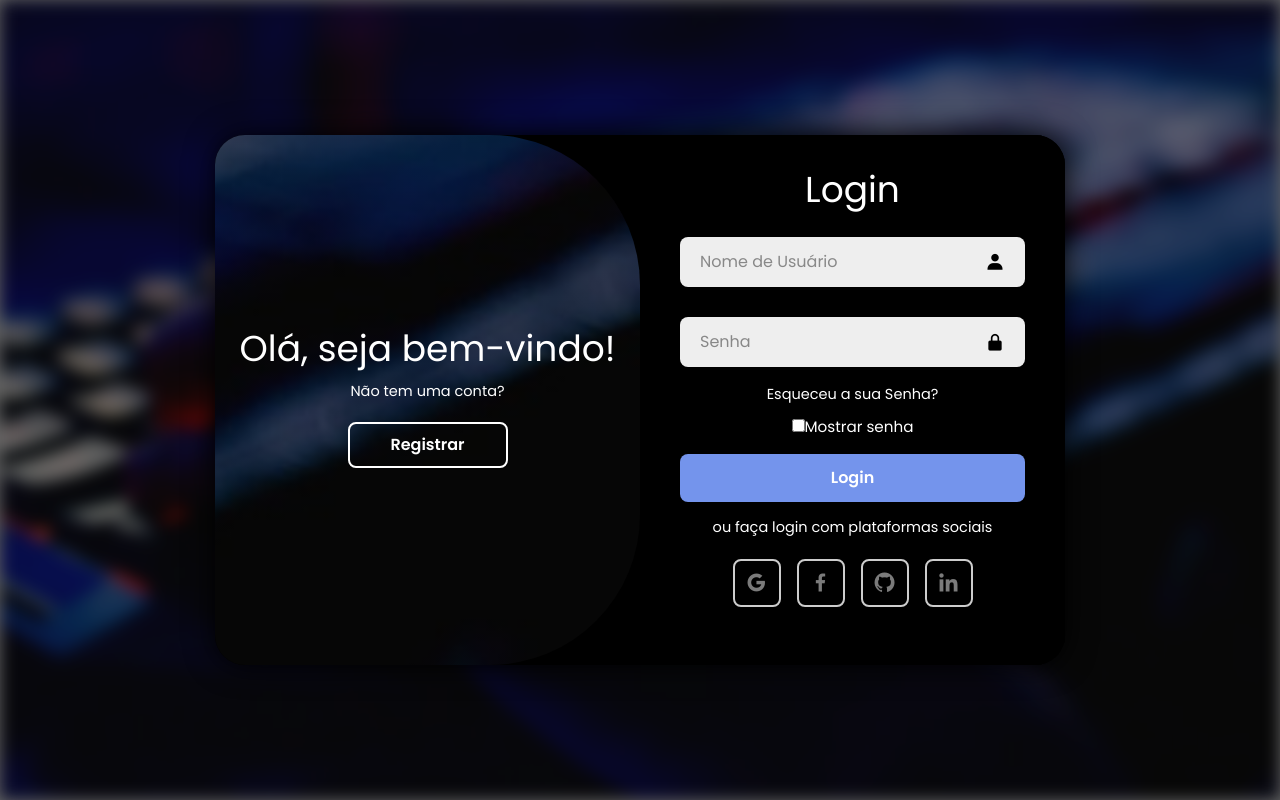
Tela de Login e Registro › Deve cadastrar um novo usuário
Click the button "Registrar" at (428, 445), box [348,422,508,468]
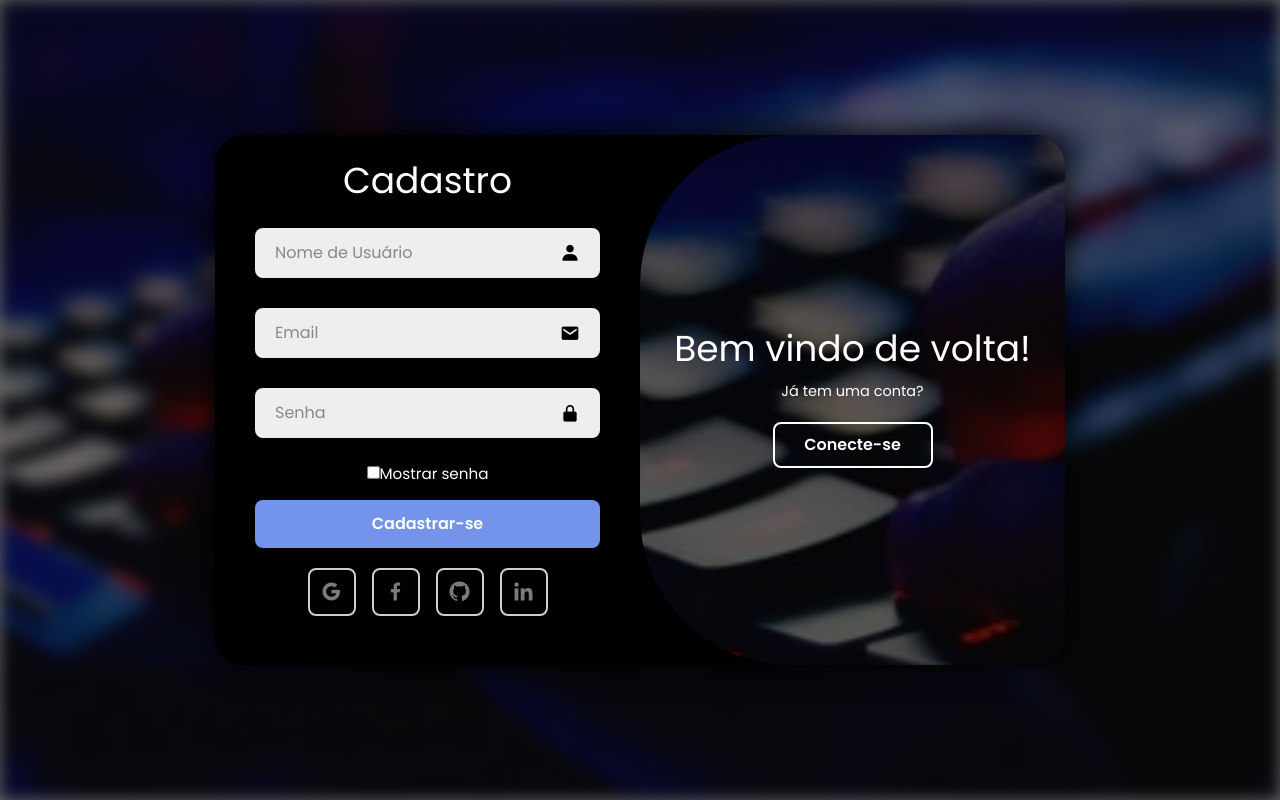
Type "Novo Usuario" into the field with test id "register-username" at (428, 253), box [255,228,600,278]
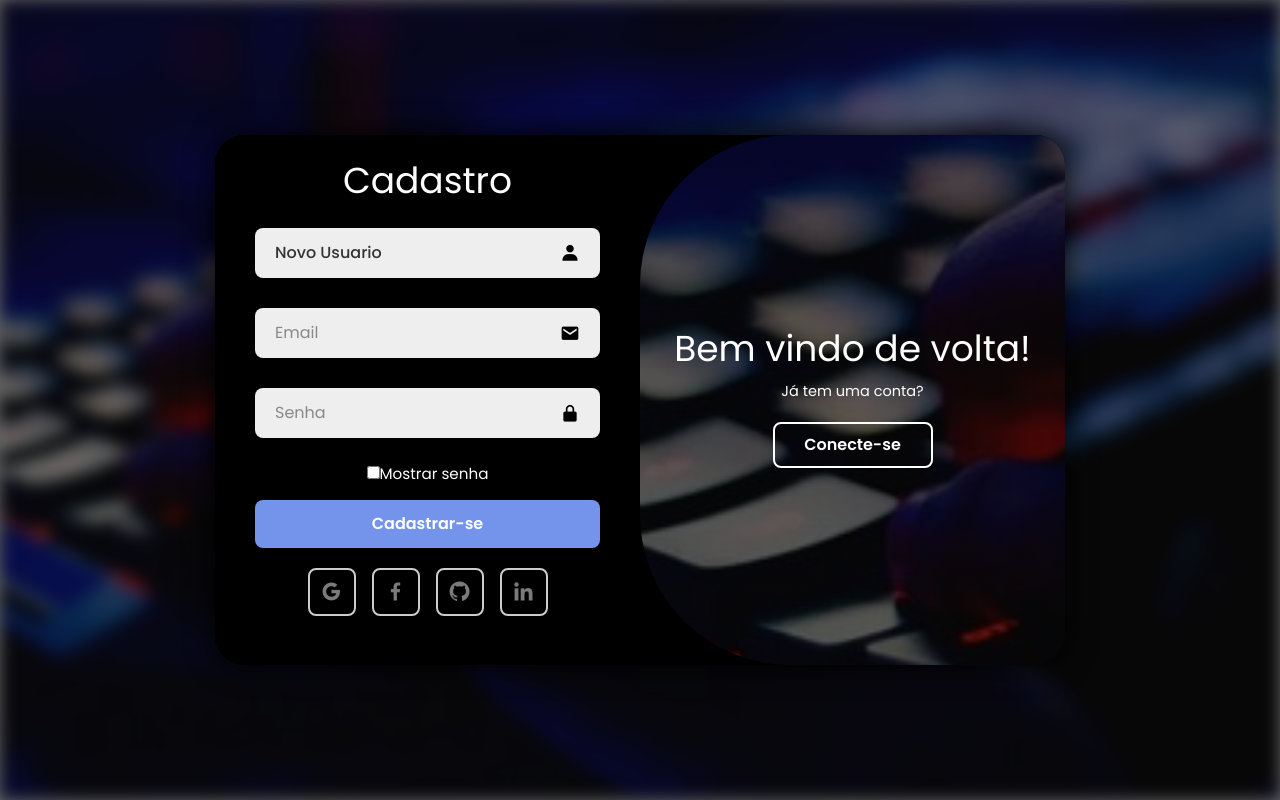
Type "novo@teste.com" into the field with test id "register-email" at (428, 333), box [255,308,600,358]
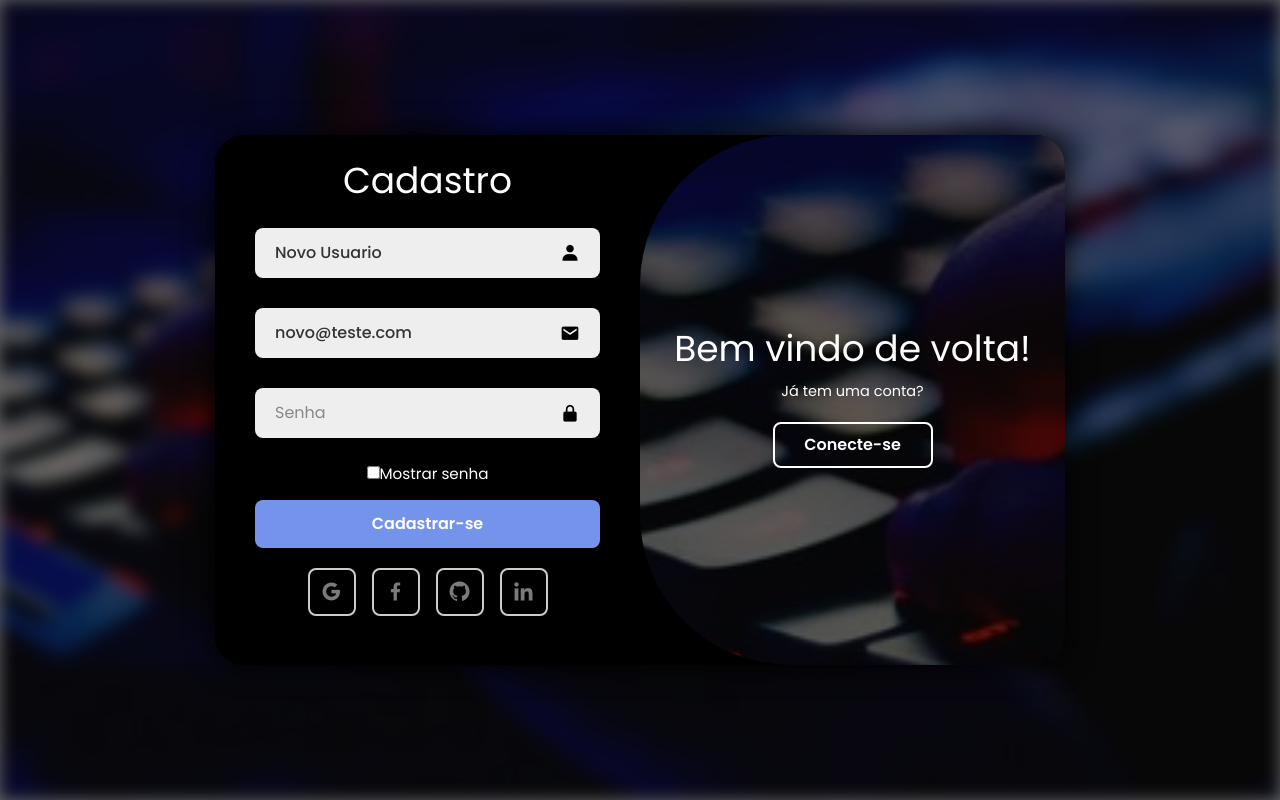
Type "123456" into the password field with test id "register-password" at (428, 413), box [255,388,600,438]
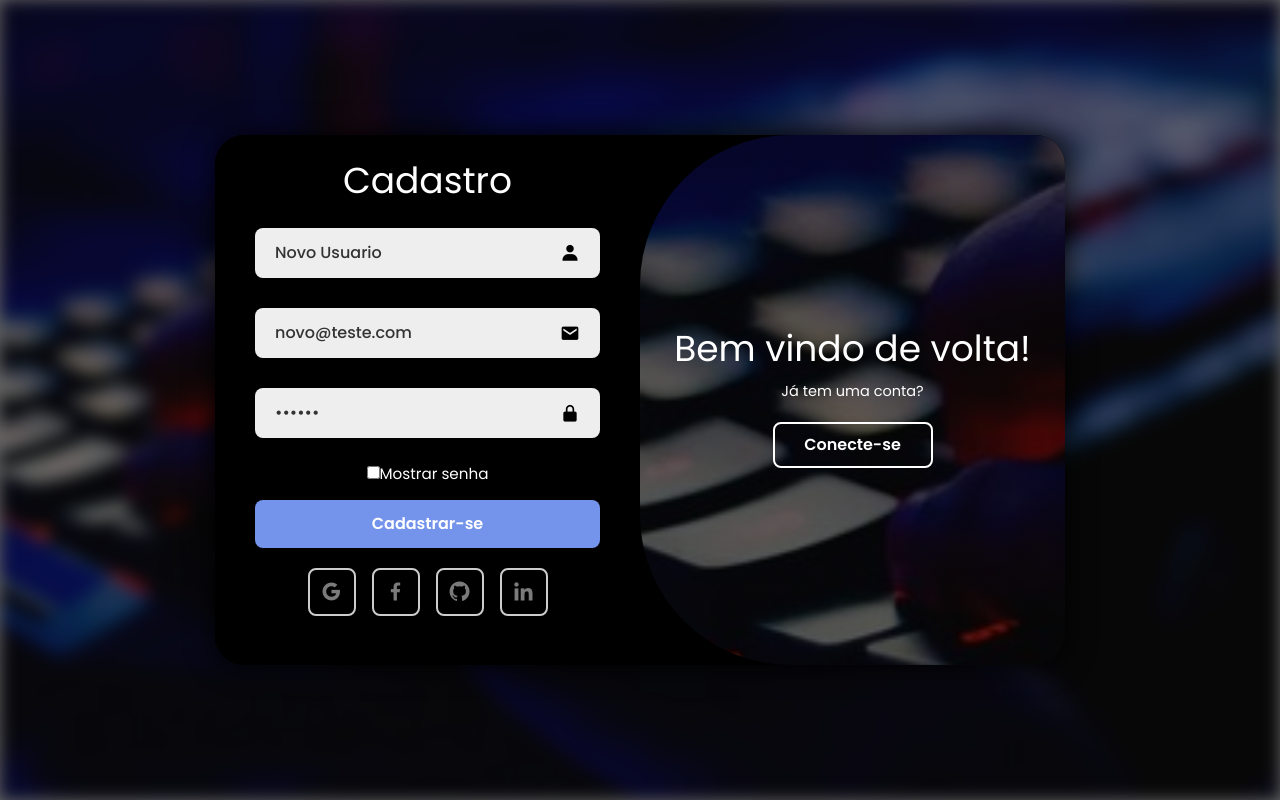
Click the button "Cadastrar-se" at (428, 524), box [255,500,600,548]
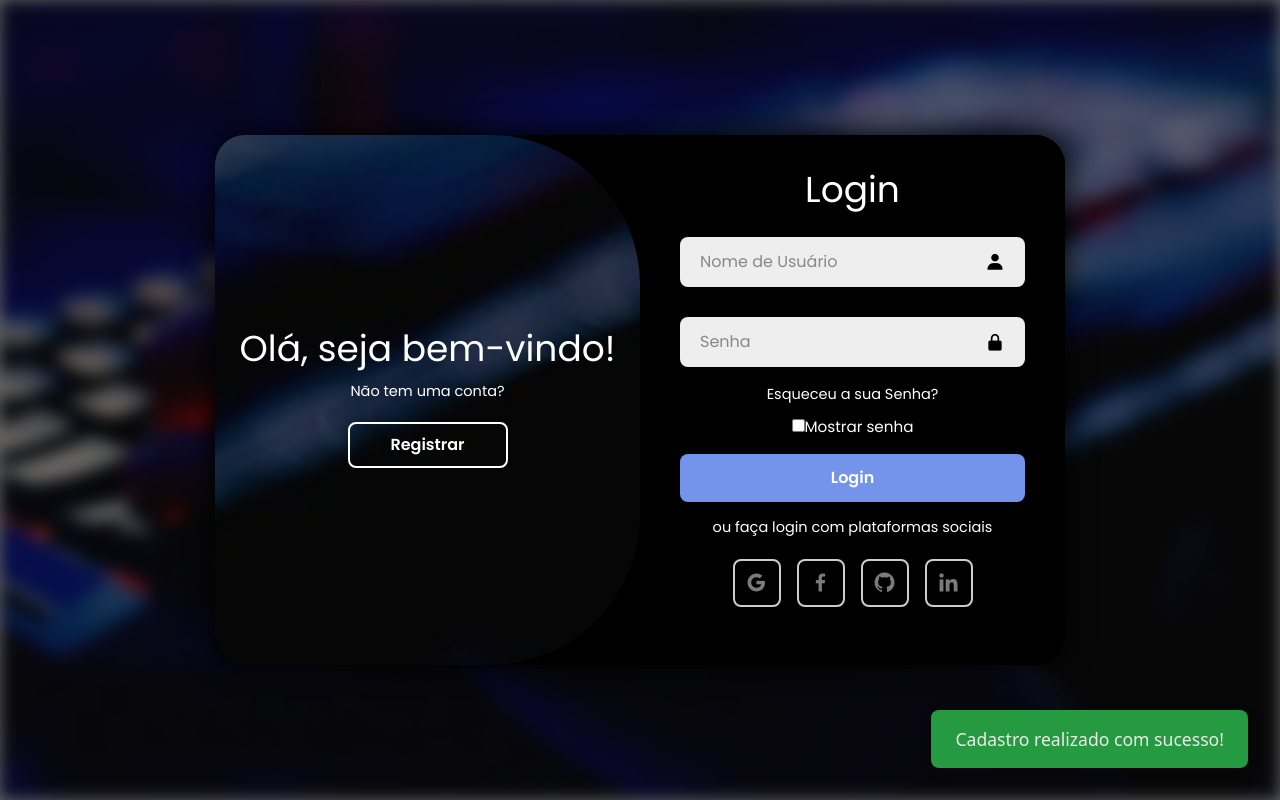
Check: the heading "Login" is shown, box [805,164,900,215]
Check: the text "Cadastro realizado com sucesso!" is shown, box [931,710,1248,768]
